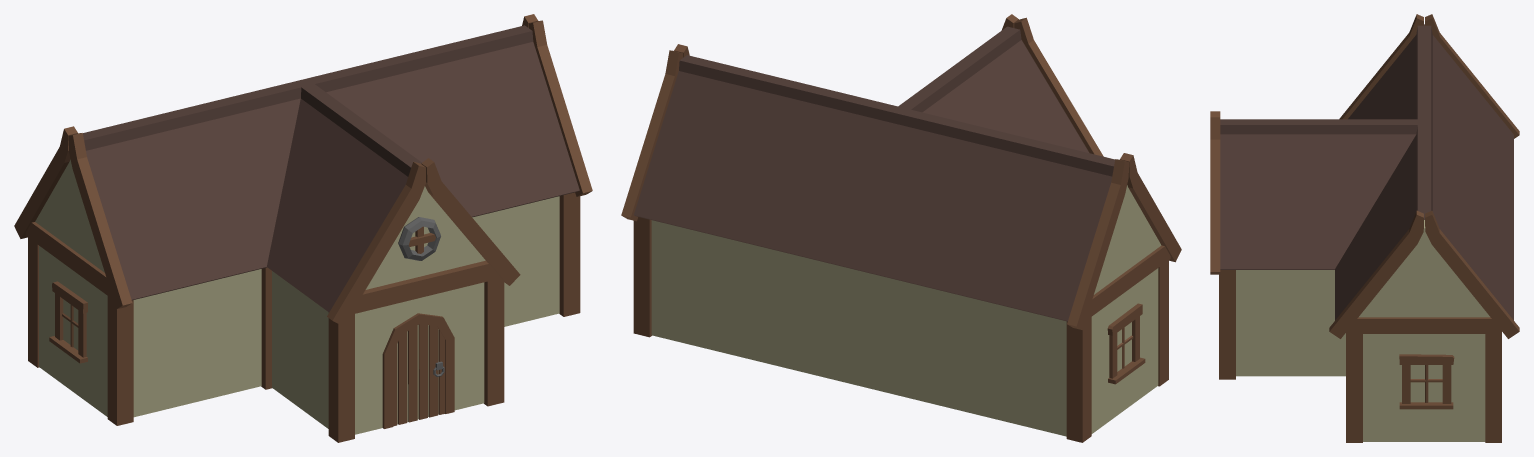
File: House_4.fbx
3 renders of one model, left to right at view 1: azimuth 30°, elevation 25°; view 2: azimuth 150°, elevation 25°; view 3: azimuth 270°, elevation 25°, orthographic. The views are drawn at different scales.
Parts seen in each view (by area): view 1: 03_krisha.005, Cube.019, 03_krisha.004, 02_stolby_krisha.006, 02_stolby_krisha.005, Cube.023, Cube.020, House.003, Cube.021, Cube.026, 18_rama_okno_vertik.001, Cube.025 (+3 smaller); view 2: 03_krisha.005, Cube.019, 03_krisha.004, 02_stolby_krisha.006, Cube.024, 02_stolby_krisha.005, 18_rama_okno_vertik.001, Cube.025, Cube.023; view 3: Cube.019, 03_krisha.005, 03_krisha.004, 02_stolby_krisha.006, Cube.025, 18_rama_okno_vertik.001, Cube.020, Cube.023, Cube.024, 02_stolby_krisha.005.
Part boxes in pixels (bbox=[...]): 03_krisha.005: bbox=[83, 25, 579, 300]; Cube.019: bbox=[35, 159, 559, 434]; 03_krisha.004: bbox=[267, 84, 421, 312]; 02_stolby_krisha.006: bbox=[14, 14, 592, 309]; 02_stolby_krisha.005: bbox=[327, 158, 520, 326]; Cube.023: bbox=[107, 192, 580, 425]; Cube.020: bbox=[328, 275, 504, 442]; House.003: bbox=[393, 324, 444, 426]; Cube.021: bbox=[351, 260, 498, 314]; Cube.026: bbox=[382, 313, 454, 428]; 18_rama_okno_vertik.001: bbox=[49, 281, 87, 363]; Cube.025: bbox=[25, 222, 113, 299]; 03_krisha.005: bbox=[634, 55, 1115, 321]; Cube.019: bbox=[651, 185, 1161, 436]; 03_krisha.004: bbox=[897, 26, 1089, 152]; 02_stolby_krisha.006: bbox=[621, 44, 1181, 329]; Cube.024: bbox=[633, 217, 1091, 442]; 02_stolby_krisha.005: bbox=[1001, 14, 1103, 156]; 18_rama_okno_vertik.001: bbox=[1107, 303, 1145, 384]; Cube.025: bbox=[1085, 245, 1170, 320]; Cube.023: bbox=[1158, 260, 1168, 386]; Cube.019: bbox=[1236, 220, 1489, 441]; 03_krisha.005: bbox=[1335, 24, 1513, 320]; 03_krisha.004: bbox=[1220, 119, 1419, 269]; 02_stolby_krisha.006: bbox=[1329, 14, 1519, 338]; Cube.025: bbox=[1346, 317, 1501, 333]; 18_rama_okno_vertik.001: bbox=[1399, 354, 1454, 409]; Cube.020: bbox=[1219, 270, 1235, 379]; Cube.023: bbox=[1346, 332, 1362, 442]; Cube.024: bbox=[1485, 334, 1501, 442]; 02_stolby_krisha.005: bbox=[1210, 111, 1220, 274].
Size of the model in its own units: 564 by 297 by 363.
